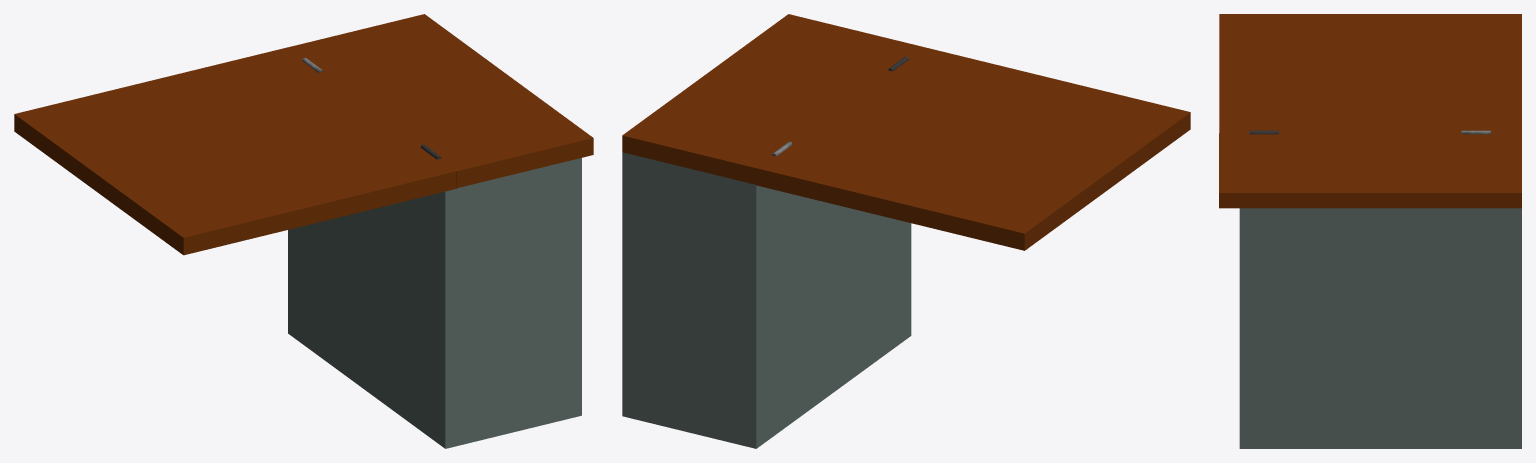
Rendered from SM_Counter_Entry_Closed_01.glb.
3 renders of one model, left to right at view 1: azimuth 30°, elevation 25°; view 2: azimuth 150°, elevation 25°; view 3: azimuth 270°, elevation 25°, orthographic. The views are drawn at different scales.
Visible parts, largest first — view 1: SM_Counter_Entry_Closed_01; view 2: SM_Counter_Entry_Closed_01; view 3: SM_Counter_Entry_Closed_01.
Part boxes in pixels (left/top/right/bottom): SM_Counter_Entry_Closed_01: left=14, top=14, right=593, bottom=448; SM_Counter_Entry_Closed_01: left=622, top=14, right=1190, bottom=448; SM_Counter_Entry_Closed_01: left=1219, top=14, right=1521, bottom=448.
Size of the model in its own units: 1.5 by 1.01 by 1.07.
Materials: 2 (1 with a texture image).
